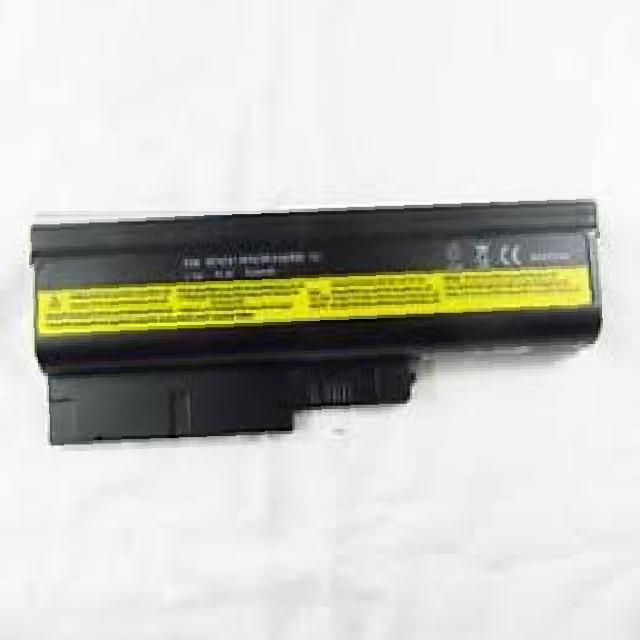Battery: (23, 171, 633, 471)
